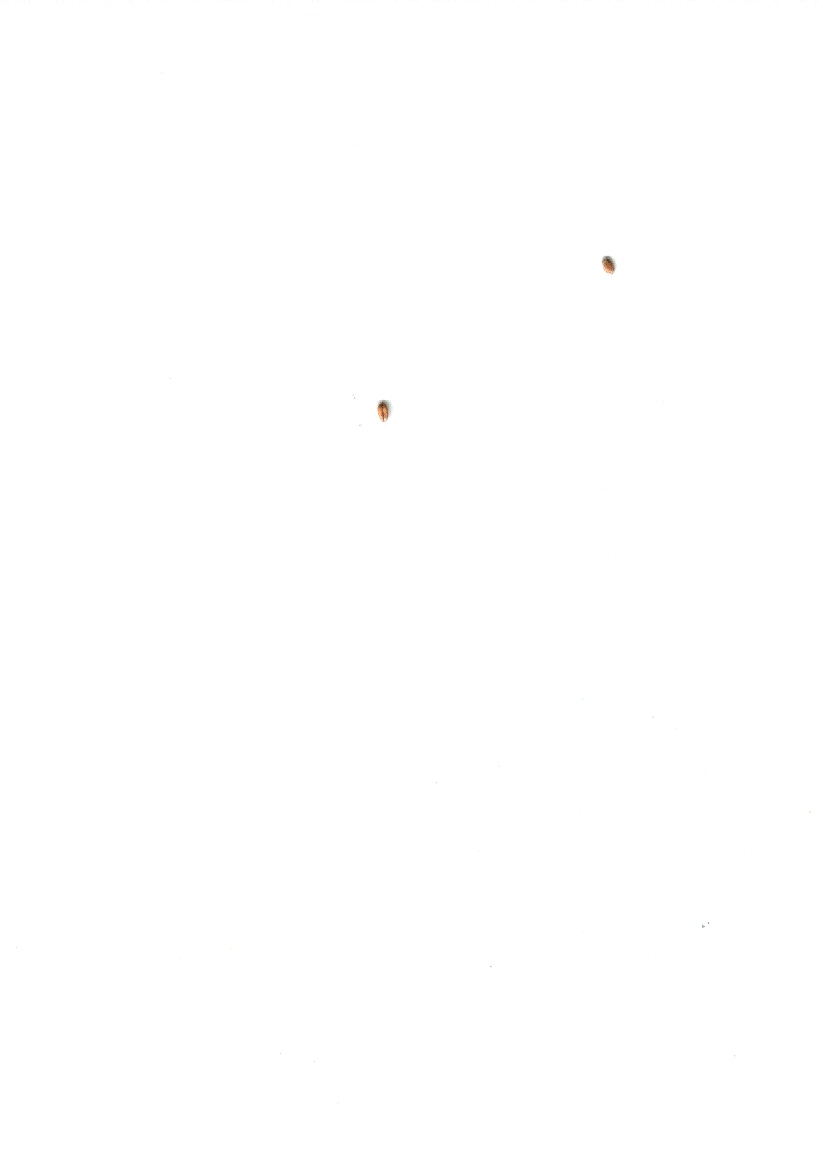grains: (363, 392, 406, 433), (590, 249, 627, 288)
